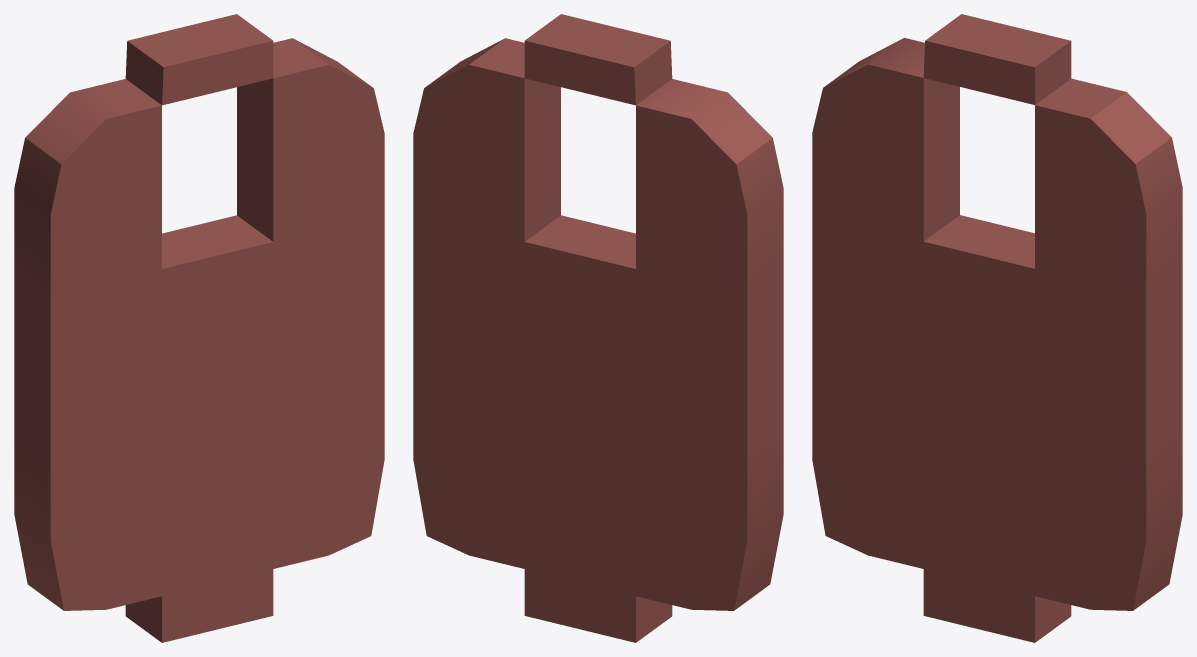
File: Wall Hoop UV.fbx
3 renders of one model, left to right at view 1: azimuth 30°, elevation 25°; view 2: azimuth 150°, elevation 25°; view 3: azimuth 330°, elevation 25°, orthographic.
Visible parts, largest first — view 1: Wall_Hoops; view 2: Wall_Hoops; view 3: Wall_Hoops.
Part boxes in pixels (left/top/right/bottom): Wall_Hoops: left=14, top=14, right=384, bottom=642; Wall_Hoops: left=413, top=14, right=783, bottom=642; Wall_Hoops: left=812, top=14, right=1182, bottom=642.
Size of the model in its own units: 0.3216 by 0.5296 by 0.0607.
